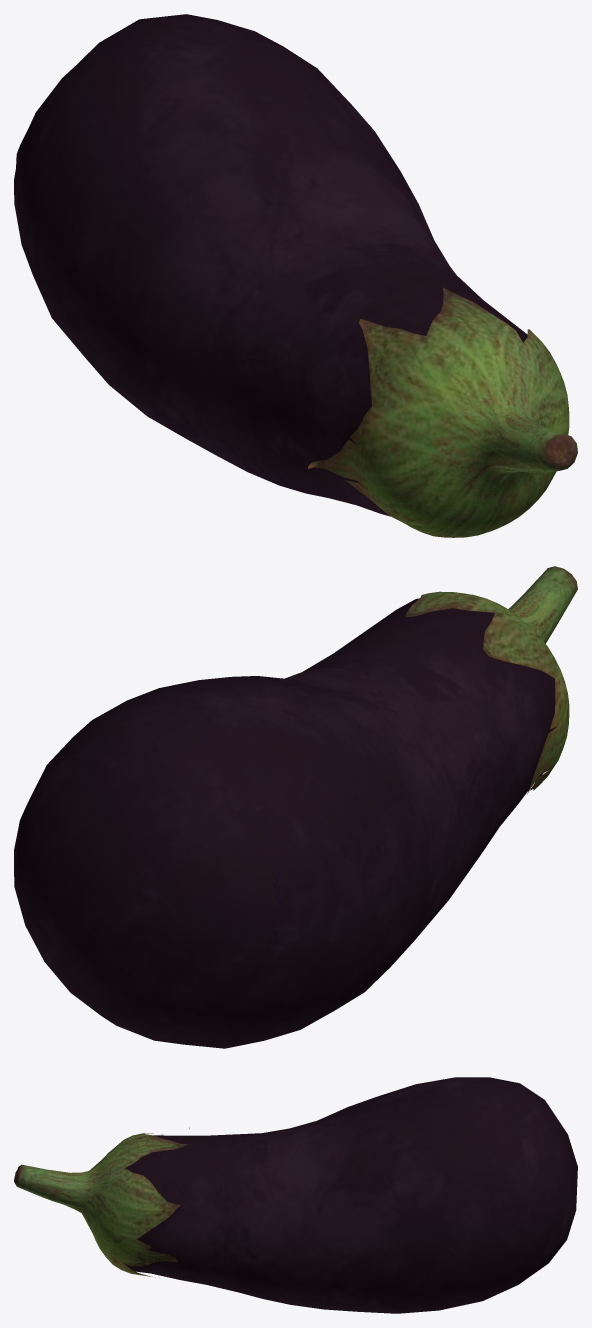
The model's file is baingan.glb.
3 views of the same model, one above another, from view 1: azimuth 30°, elevation 25°; view 2: azimuth 150°, elevation 25°; view 3: azimuth 270°, elevation 25° (orthographic). The views are drawn at different scales.
Visible parts, largest first — view 1: baingan; view 2: baingan; view 3: baingan.
Part boxes in pixels (<box>): baingan: <box>14,14,577,537</box>; baingan: <box>14,566,577,1048</box>; baingan: <box>14,1077,577,1313</box>.
Size of the model in its own units: 0.106 by 0.1112 by 0.2617.
1 material, 1 textured.
